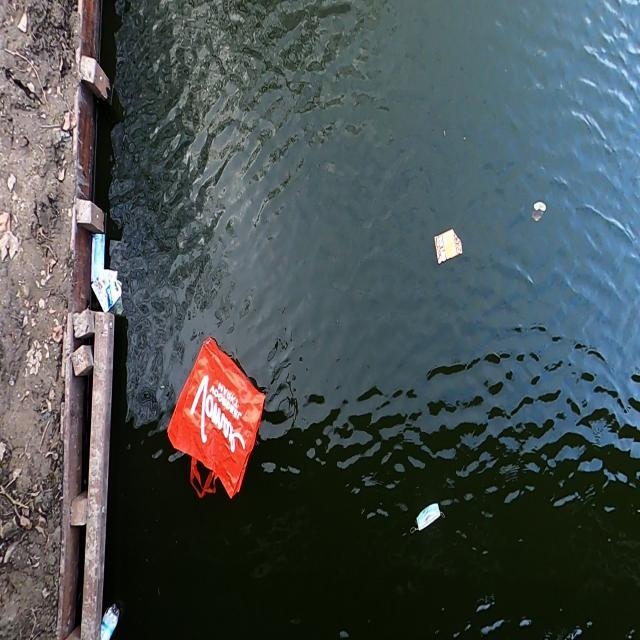Autre plastique: (430, 224, 468, 270)
Non plastique: (408, 490, 446, 539), (529, 199, 547, 228)
Sac plastique: (165, 332, 273, 508)
